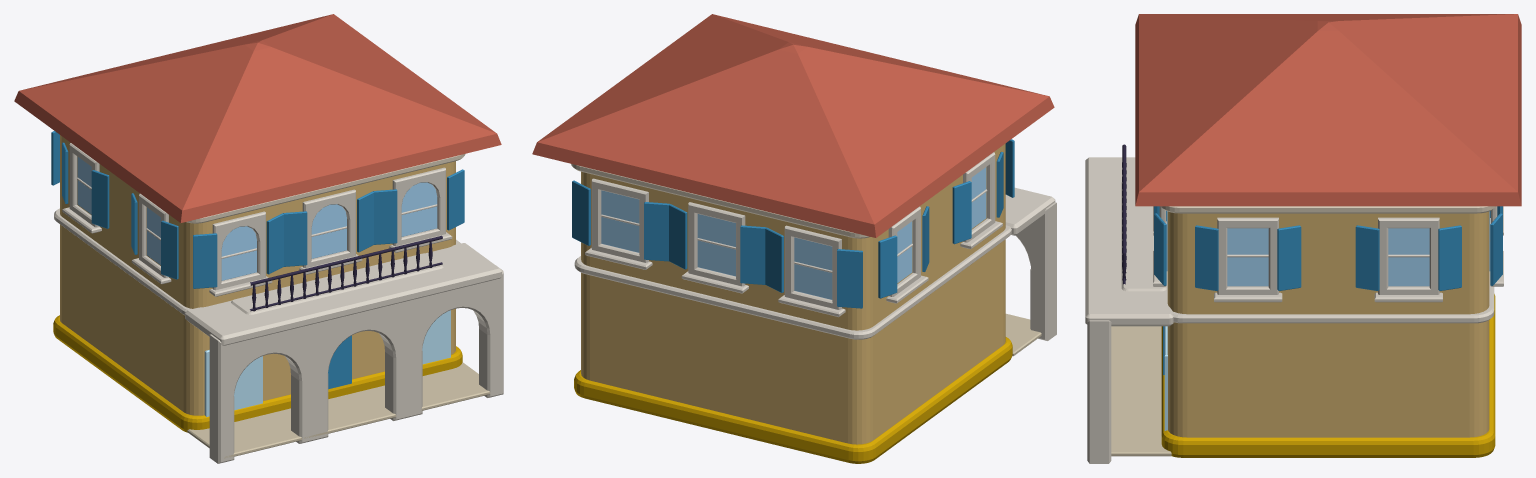
File: colonial_a.glb
The picture shows the model from 3 angles, left to right: view 1: azimuth 30°, elevation 25°; view 2: azimuth 150°, elevation 25°; view 3: azimuth 270°, elevation 25°; orthographic projection. The views are drawn at different scales.
Parts seen in each view (by area): view 1: colonial_a_corpo, colonial_a_vidro; view 2: colonial_a_corpo, colonial_a_vidro; view 3: colonial_a_corpo, colonial_a_vidro.
Boxes of the visible parts, left/top/right/bottom form: colonial_a_corpo: left=14, top=14, right=503, bottom=463; colonial_a_vidro: left=77, top=157, right=450, bottom=416; colonial_a_corpo: left=532, top=14, right=1056, bottom=463; colonial_a_vidro: left=601, top=167, right=986, bottom=299; colonial_a_corpo: left=1085, top=14, right=1521, bottom=463; colonial_a_vidro: left=1164, top=211, right=1490, bottom=430.
Bounding box in the file's own units: 10.69 × 9.9 × 10.86.
